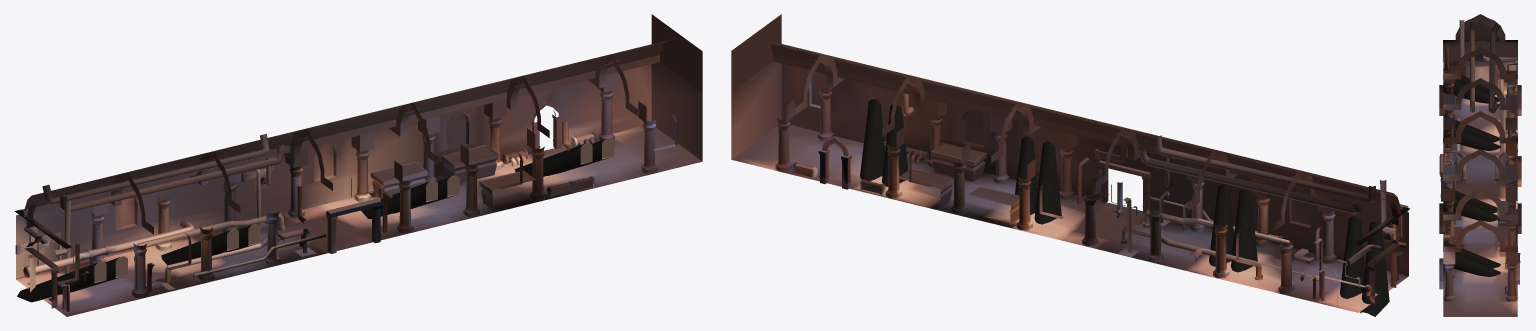
File: 11Hall.gltf
The picture shows the model from 3 angles, left to right: view 1: azimuth 30°, elevation 25°; view 2: azimuth 150°, elevation 25°; view 3: azimuth 270°, elevation 25°; orthographic projection. The views are drawn at different scales.
Visible parts, largest first — view 1: stg031_o37_Mesh_0012, stg031_o37_Mesh_0004, stg031_o37_Mesh_0005, stg031_o37_Mesh_0051, stg031_o37_Mesh_0053, stg031_o37_Mesh_0058, stg031_o37_Mesh_0047, stg031_o37_Mesh_0020, stg031_g37_Mesh_0000, stg031_o37_Mesh_0029, stg031_o37_Mesh_0026, stg031_o37_Mesh_0052 (+10 smaller); view 2: stg031_o37_Mesh_0004, stg031_o37_Mesh_0012, stg031_g37_Mesh_0000, stg031_o37_Mesh_0005, stg031_o37_Mesh_0053, stg031_o37_Mesh_0051, stg031_o37_Mesh_0047, stg031_o37_Mesh_0058, stg031_o37_Mesh_0020, stg031_o37_Mesh_0052, stg031_o37_Mesh_0018, stg031_o37_Mesh_0029 (+9 smaller); view 3: stg031_o37_Mesh_0020, stg031_o37_Mesh_0058, stg031_o37_Mesh_0051, stg031_g37_Mesh_0000, stg031_o37_Mesh_0053, stg031_o37_Mesh_0005, stg031_o37_Mesh_0004, stg031_o37_Mesh_0047, stg031_o37_Mesh_0026, stg031_o37_Mesh_0015, stg031_o37_Mesh_0052, stg031_o37_Mesh_0024 (+9 smaller).
Boxes of the visible parts, x1,y1,x2,y2 form: stg031_o37_Mesh_0012: (16,63,702,254); stg031_o37_Mesh_0004: (24,14,702,301); stg031_o37_Mesh_0005: (35,121,595,311); stg031_o37_Mesh_0051: (21,62,702,306); stg031_o37_Mesh_0053: (20,130,689,313); stg031_o37_Mesh_0058: (30,72,677,308); stg031_o37_Mesh_0047: (92,101,654,290); stg031_o37_Mesh_0020: (26,54,655,292); stg031_g37_Mesh_0000: (17,138,610,302); stg031_o37_Mesh_0029: (16,100,702,302); stg031_o37_Mesh_0026: (16,105,702,270); stg031_o37_Mesh_0052: (16,126,702,316); stg031_o37_Mesh_0004: (731,14,1400,296); stg031_o37_Mesh_0012: (731,62,1408,251); stg031_g37_Mesh_0000: (860,99,1389,316); stg031_o37_Mesh_0005: (794,93,1406,300); stg031_o37_Mesh_0053: (744,129,1404,309); stg031_o37_Mesh_0051: (731,61,1403,301); stg031_o37_Mesh_0047: (778,99,1333,286); stg031_o37_Mesh_0058: (755,71,1396,303); stg031_o37_Mesh_0020: (777,53,1398,288); stg031_o37_Mesh_0052: (731,125,1408,312); stg031_o37_Mesh_0018: (731,110,1408,274); stg031_o37_Mesh_0029: (731,99,1408,297); stg031_o37_Mesh_0020: (1443,16,1517,297); stg031_o37_Mesh_0058: (1441,70,1519,313); stg031_o37_Mesh_0051: (1441,42,1519,316); stg031_g37_Mesh_0000: (1443,67,1500,276); stg031_o37_Mesh_0053: (1449,90,1511,313); stg031_o37_Mesh_0005: (1443,22,1517,294); stg031_o37_Mesh_0004: (1440,14,1520,270); stg031_o37_Mesh_0047: (1445,90,1515,295); stg031_o37_Mesh_0026: (1439,76,1521,289); stg031_o37_Mesh_0015: (1459,20,1517,256); stg031_o37_Mesh_0052: (1443,93,1517,316); stg031_o37_Mesh_0024: (1445,201,1515,245).
Size of the model in its own units: 146 by 25.77 by 22.15.
